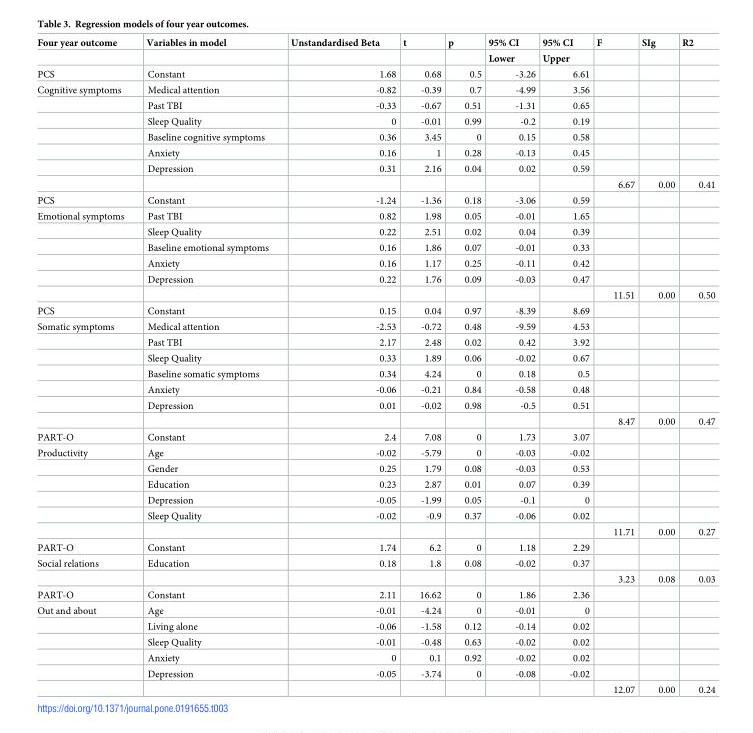table: (36, 37, 714, 694)
table column: (134, 37, 278, 694), (278, 37, 398, 694), (36, 37, 134, 694), (484, 37, 538, 694), (538, 37, 592, 694), (398, 37, 443, 694), (592, 37, 637, 694), (443, 37, 484, 694), (637, 37, 677, 694), (677, 37, 714, 694)
table column header: (36, 37, 714, 65)
table row: (36, 65, 714, 81), (36, 81, 714, 97), (36, 97, 714, 113), (36, 113, 714, 129), (36, 144, 714, 160), (36, 160, 714, 176), (36, 176, 714, 192), (36, 192, 714, 208), (36, 223, 714, 239), (36, 239, 714, 255), (36, 255, 714, 271), (36, 286, 714, 302), (36, 302, 714, 318), (36, 318, 714, 334), (36, 334, 714, 350), (36, 365, 714, 381), (36, 381, 714, 397), (36, 397, 714, 413), (36, 413, 714, 429), (36, 444, 714, 460), (36, 460, 714, 476), (36, 476, 714, 492), (36, 507, 714, 523), (36, 523, 714, 539), (36, 539, 714, 555), (36, 555, 714, 571), (36, 586, 714, 602), (36, 602, 714, 618), (36, 618, 714, 634), (36, 649, 714, 665), (36, 665, 714, 681), (36, 50, 714, 65), (36, 129, 714, 144), (36, 208, 714, 223), (36, 271, 714, 286), (36, 350, 714, 365), (36, 429, 714, 444), (36, 492, 714, 507), (36, 571, 714, 586), (36, 634, 714, 649), (36, 37, 714, 50), (36, 681, 714, 694)
table spanning cell: (36, 81, 134, 192), (36, 318, 134, 429), (36, 444, 134, 539), (36, 208, 134, 302), (36, 602, 134, 694), (134, 37, 278, 65), (278, 37, 398, 65), (36, 555, 134, 586), (36, 37, 134, 65), (484, 37, 538, 65), (538, 37, 592, 65), (398, 37, 443, 65), (592, 37, 637, 65), (443, 37, 484, 65), (637, 37, 677, 65), (677, 37, 714, 65)
